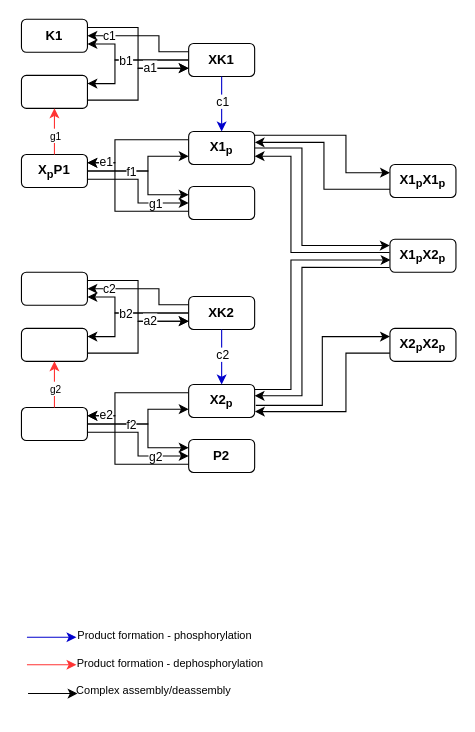
Some shapes in this 475 by 732 pixel diagram are drawn without their labels. Each missing label, with the centre of its shape:
"K2" goes at (53,288).
"P1" goes at (221,202).
"X p P2" goes at (53,423).
"X1" goes at (53,91).
"X2" goes at (53,344).
